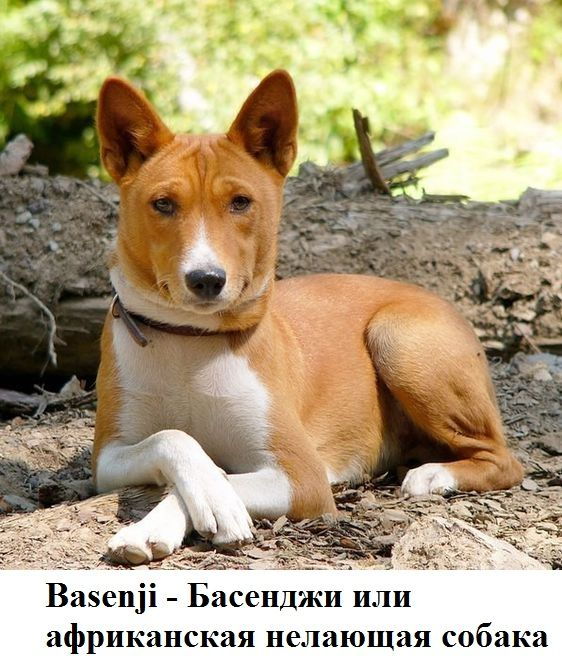dog: (84, 66, 521, 552)
